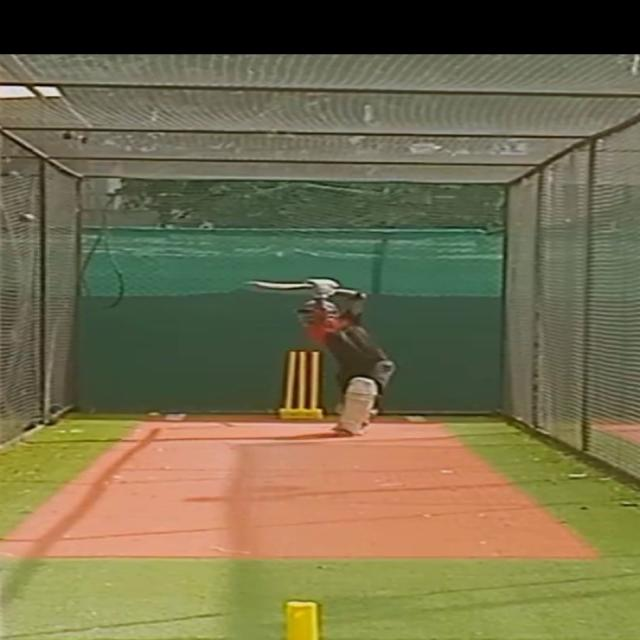ball: (19, 212, 37, 226)
stump: (278, 349, 324, 422)
